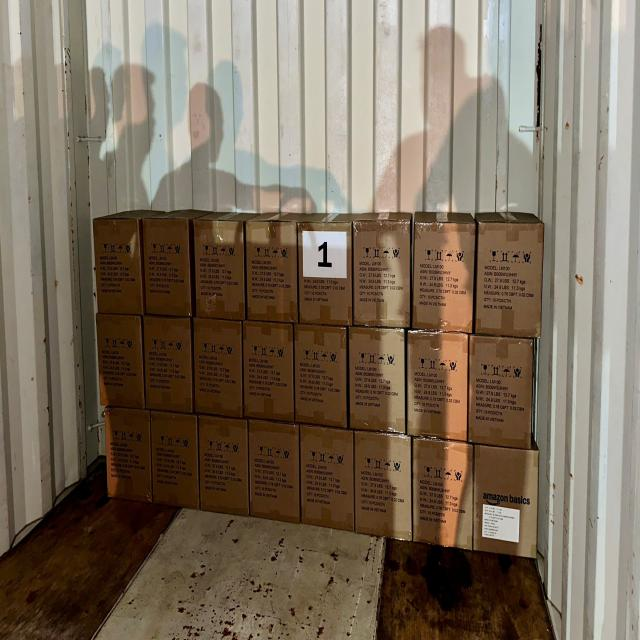Carton: (470, 333, 536, 449), (476, 220, 541, 337), (476, 444, 540, 559), (407, 328, 470, 441), (412, 441, 471, 553), (414, 219, 474, 329), (352, 432, 410, 542), (349, 326, 408, 434), (352, 220, 408, 328), (302, 425, 358, 533), (302, 221, 354, 327), (194, 217, 246, 322), (248, 220, 300, 324), (293, 325, 346, 427), (144, 220, 196, 321), (249, 423, 301, 524), (245, 320, 297, 420), (194, 315, 244, 417), (200, 417, 250, 519), (145, 316, 196, 416), (92, 216, 143, 312), (151, 412, 199, 512), (96, 314, 146, 409), (105, 406, 153, 500)
